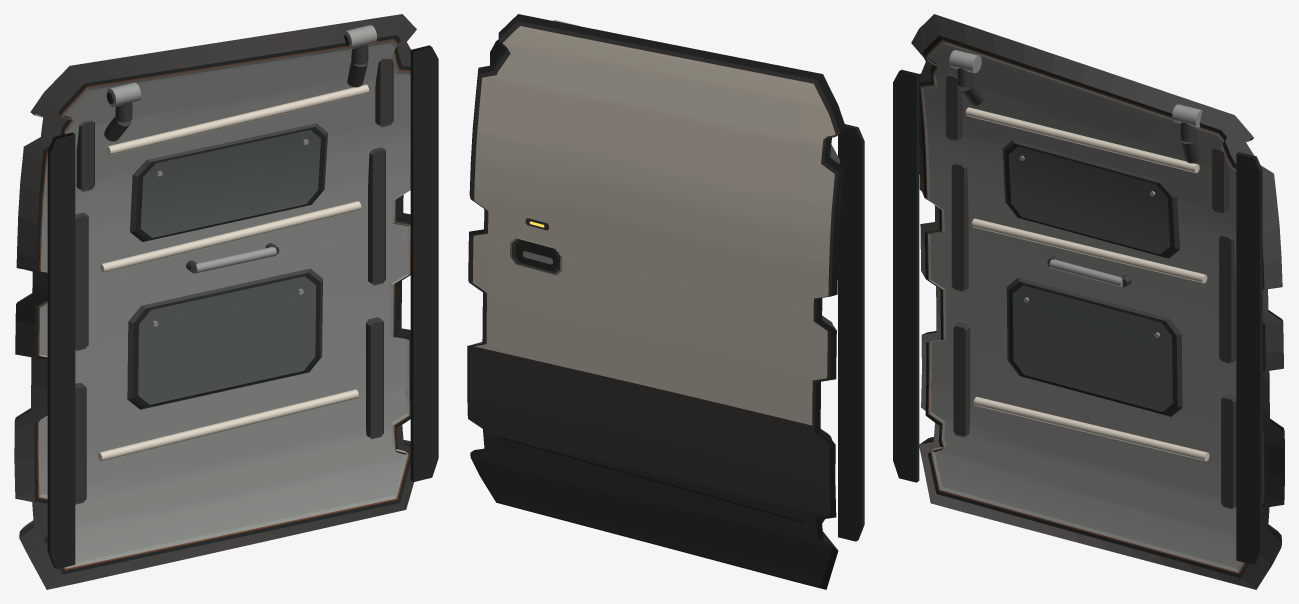
The model's file is SM_SSTO_CinematicHatch.fbx.
3 renders of one model, left to right at view 1: azimuth 30°, elevation 25°; view 2: azimuth 150°, elevation 25°; view 3: azimuth 330°, elevation 25°, orthographic. The views are drawn at different scales.
Visible parts, largest first — view 1: SM_SSTO_CinematicHatch; view 2: SM_SSTO_CinematicHatch; view 3: SM_SSTO_CinematicHatch.
Boxes of the visible parts, x1,y1,x2,y2 form: SM_SSTO_CinematicHatch: [14, 14, 438, 589]; SM_SSTO_CinematicHatch: [467, 14, 864, 589]; SM_SSTO_CinematicHatch: [893, 14, 1284, 589].
Bounding box in the file's own units: 189 × 32.43 × 242.
